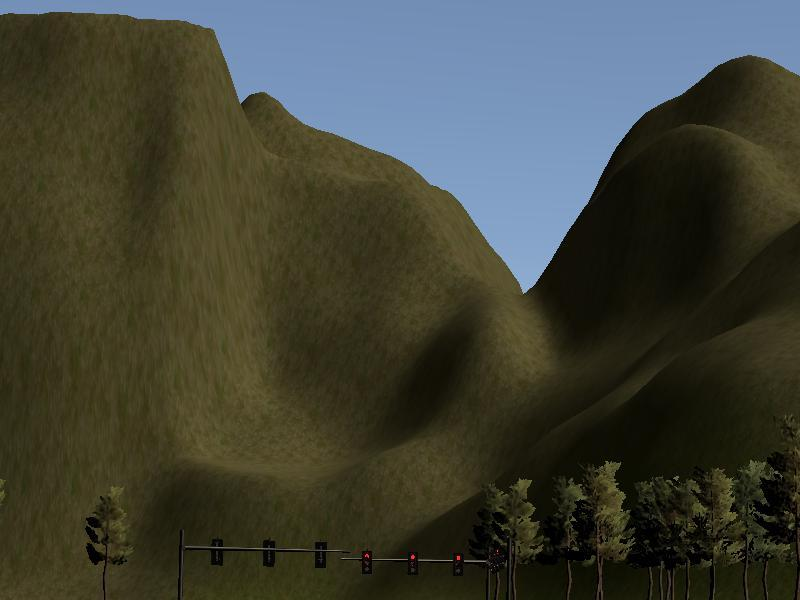Red: (361, 549, 373, 577), (408, 549, 418, 576), (453, 549, 462, 575)
